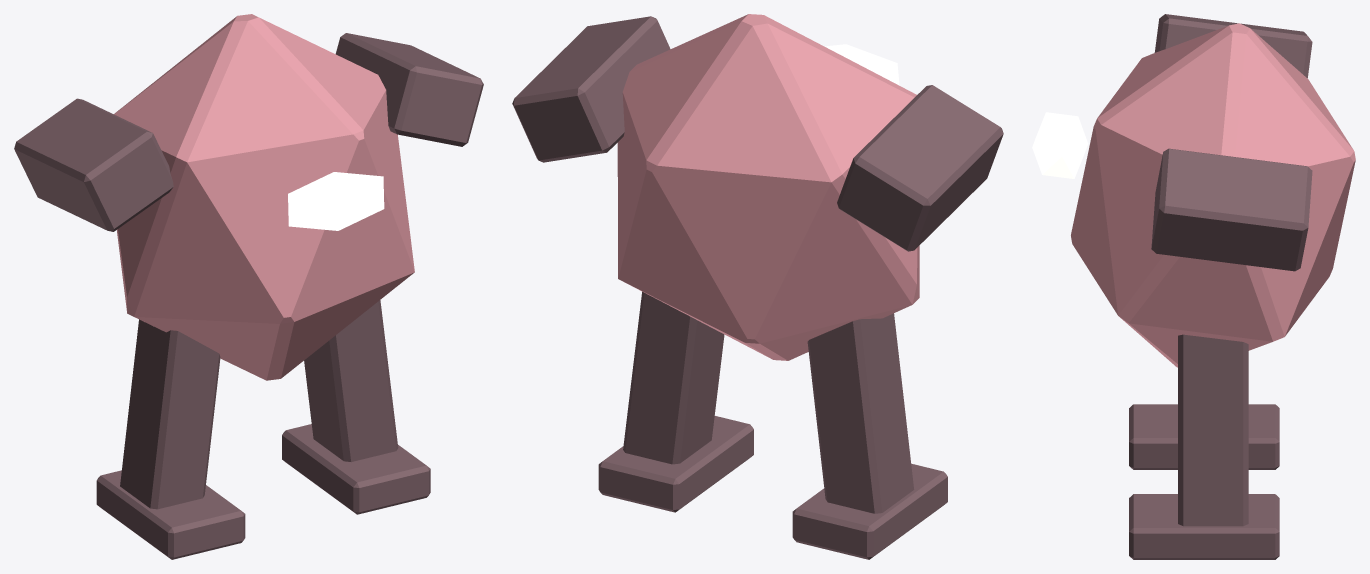
The model's file is walker.glb.
3 renders of one model, left to right at view 1: azimuth 30°, elevation 25°; view 2: azimuth 150°, elevation 25°; view 3: azimuth 270°, elevation 25°, orthographic. The views are drawn at different scales.
Visible parts, largest first — view 1: Body, Leg, Pauldron, Foot, Eye; view 2: Body, Pauldron, Leg, Foot, Eye; view 3: Body, Pauldron, Leg, Foot, Eye.
Part boxes in pixels (left/top/right/bottom): Body: left=114, top=14, right=414, bottom=380; Leg: left=120, top=300, right=398, bottom=509; Pauldron: left=14, top=33, right=483, bottom=231; Foot: left=96, top=424, right=430, bottom=559; Eye: left=288, top=172, right=384, bottom=230; Body: left=617, top=14, right=919, bottom=360; Pauldron: left=512, top=16, right=1003, bottom=251; Leg: left=623, top=291, right=914, bottom=513; Foot: left=598, top=416, right=947, bottom=559; Eye: left=824, top=44, right=899, bottom=85; Body: left=1071, top=23, right=1355, bottom=367; Pauldron: left=1151, top=14, right=1312, bottom=271; Leg: left=1178, top=334, right=1248, bottom=526; Foot: left=1129, top=404, right=1279, bottom=559; Eye: left=1032, top=112, right=1088, bottom=178.
Size of the model in its own units: 1.04 by 1.17 by 0.7302.
